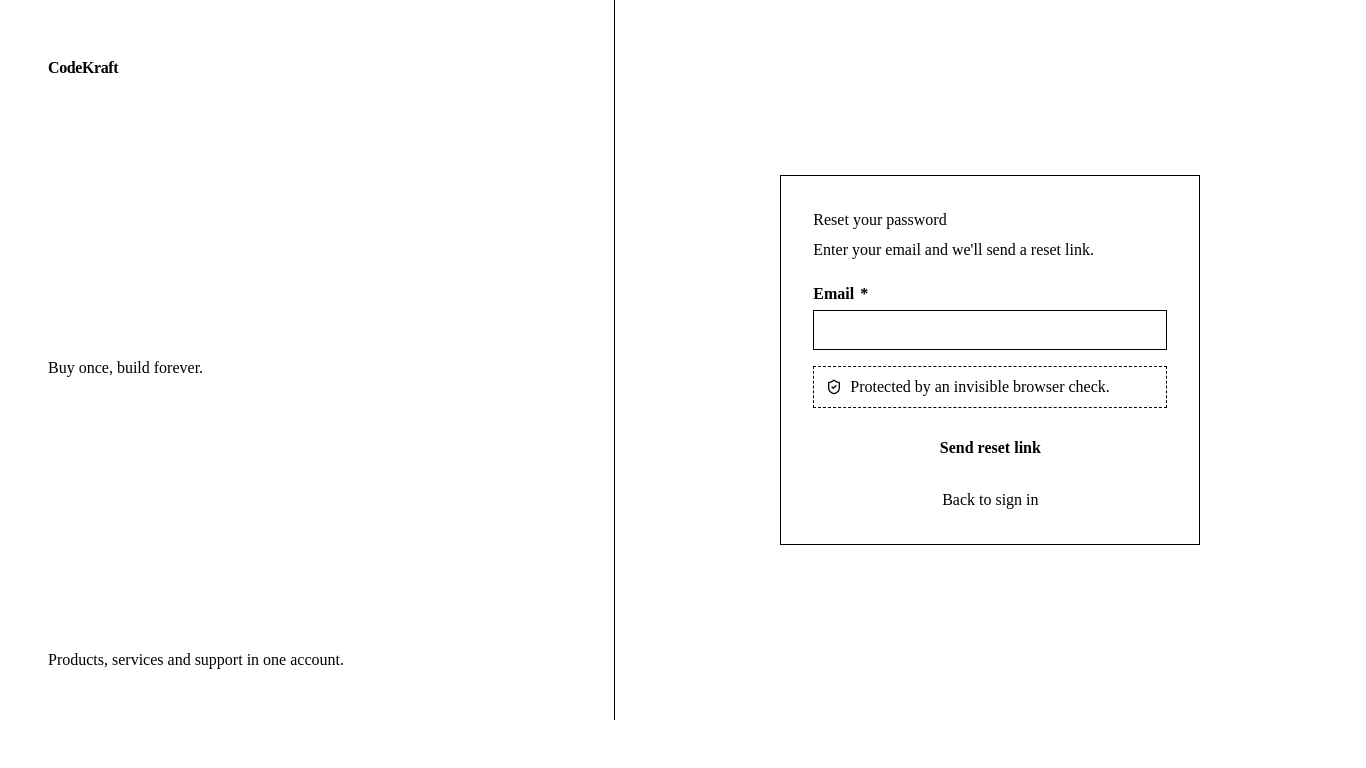
Test: ResetPasswordScreen request (BUG-051) › shows error, not success, when request fails
The width and height of the screenshot is (1366, 768).
Type "a@b.co" into the field labelled "Email *" at (990, 330), box [813,310,1167,350]
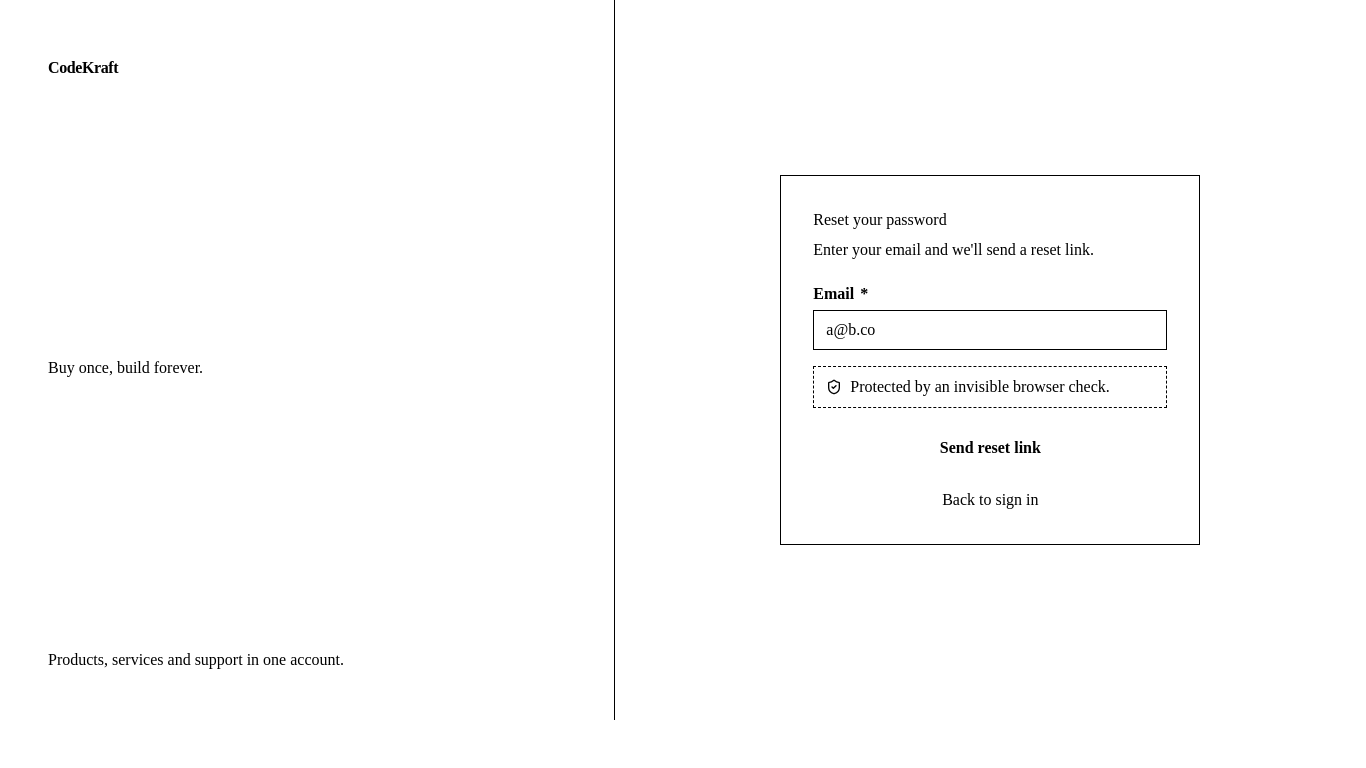
Click the button "Send reset link" at (990, 448), box [813,424,1167,472]
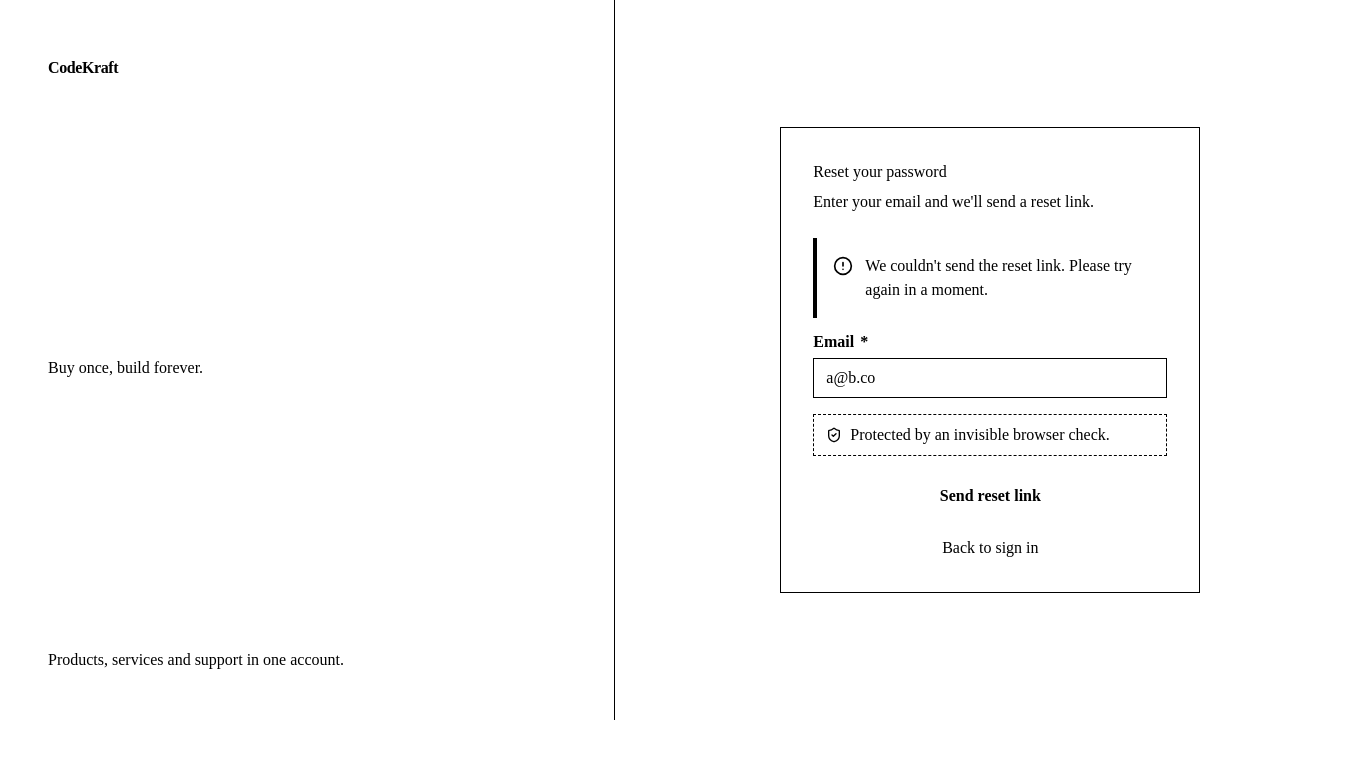
Expected: the text "couldn't send" is shown, [865,257,1132,298]
